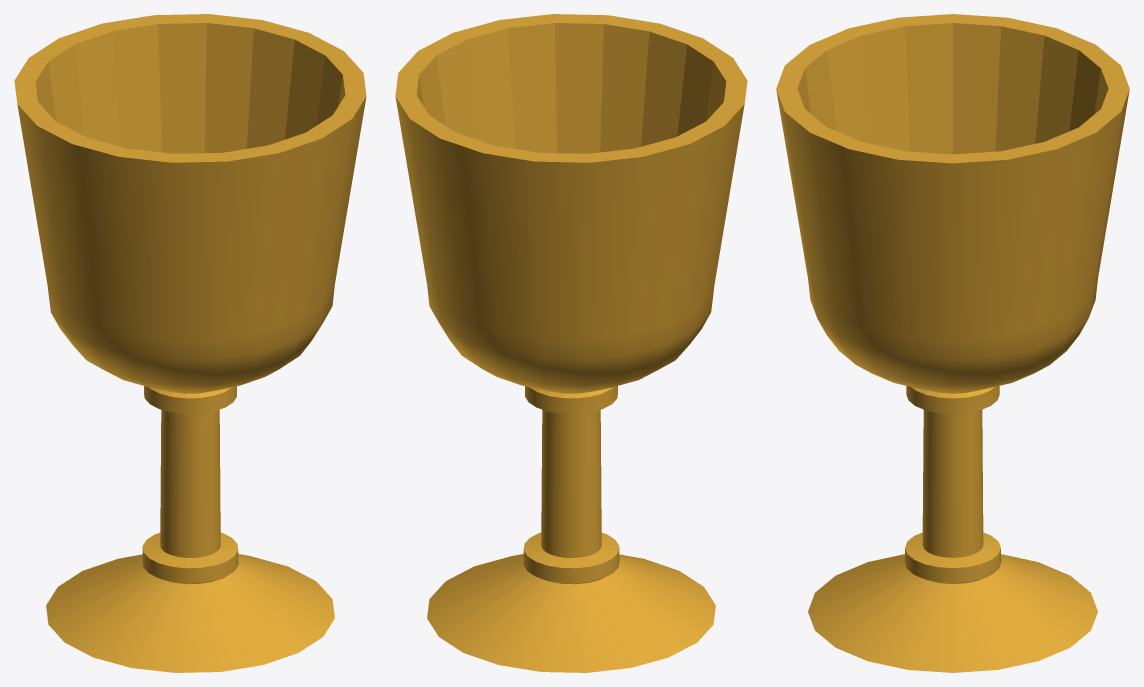
The model's file is Caliz_FBX.fbx.
The picture shows the model from 3 angles, left to right: view 1: azimuth 30°, elevation 25°; view 2: azimuth 150°, elevation 25°; view 3: azimuth 270°, elevation 25°; orthographic projection.
Visible parts, largest first — view 1: Caliz; view 2: Caliz; view 3: Caliz.
Boxes of the visible parts, x1,y1,x2,y2 form: Caliz: (14,14,366,672); Caliz: (395,14,747,672); Caliz: (776,14,1129,672).
Bounding box in the file's own units: 0.1907 × 0.3112 × 0.1907.
